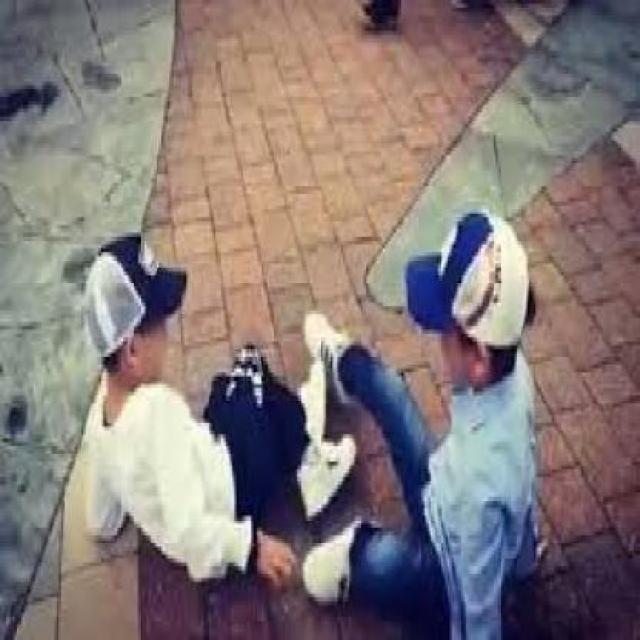fall: (74, 206, 361, 628)
